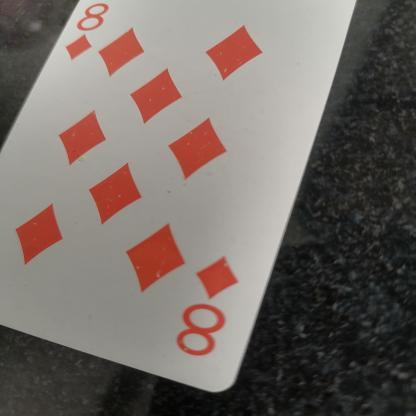8D: (172, 250, 243, 372), (52, 0, 122, 67)
